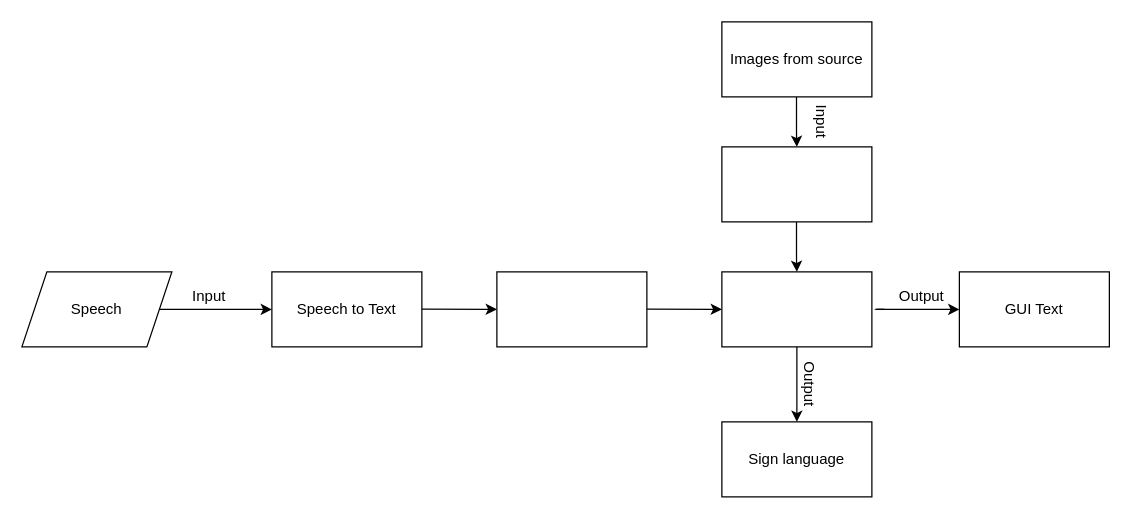
This 1131x519 diagram has some shape labels left out. The box of each missing label's shape, as (x1, y1, x2, y2) in pixels:
Combine text with dataset: (721, 271, 872, 347)
Downloaded images: (721, 146, 872, 222)
Natural Language Processing: (496, 271, 647, 347)
